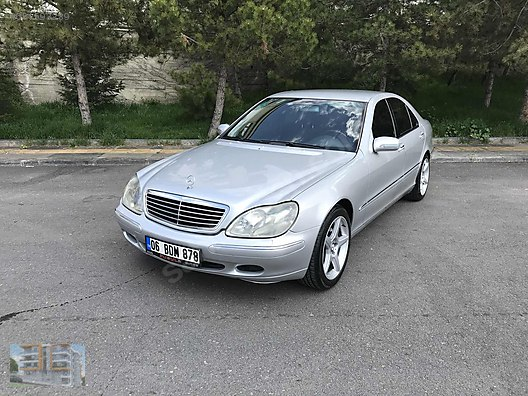m: (103, 76, 442, 297)
